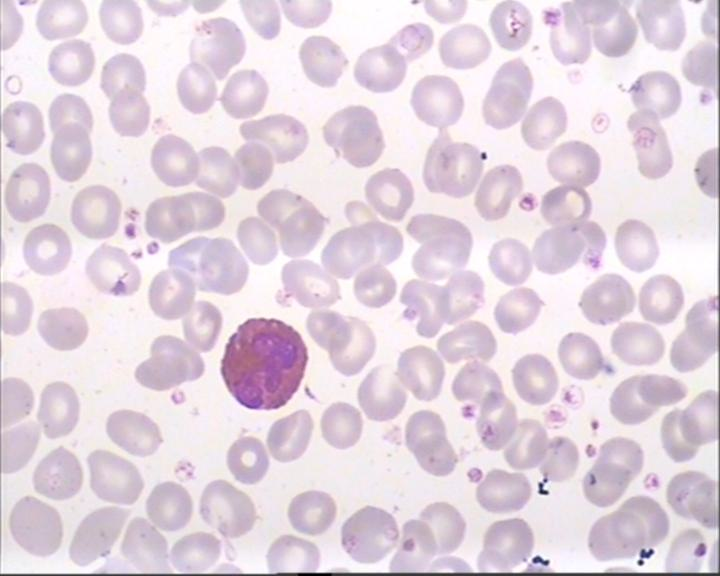eosi: (215, 309, 308, 411)
